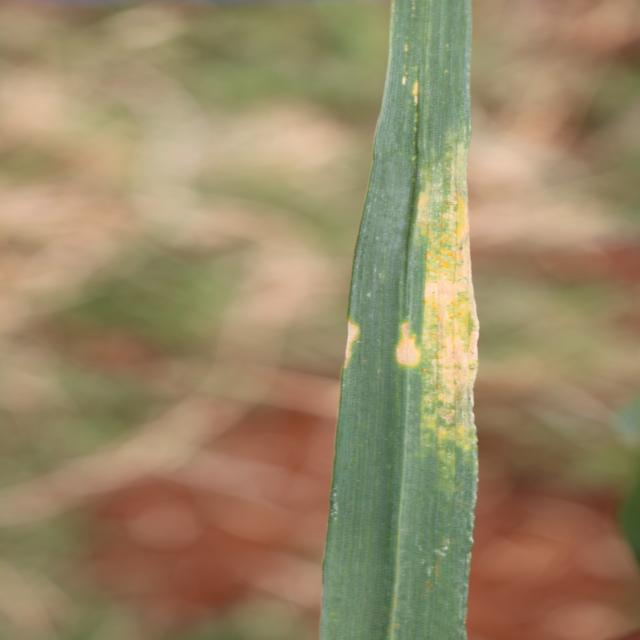Stripe Rust: (408, 148, 489, 466), (331, 308, 375, 383), (410, 79, 425, 105), (411, 112, 419, 133), (399, 74, 406, 86)
